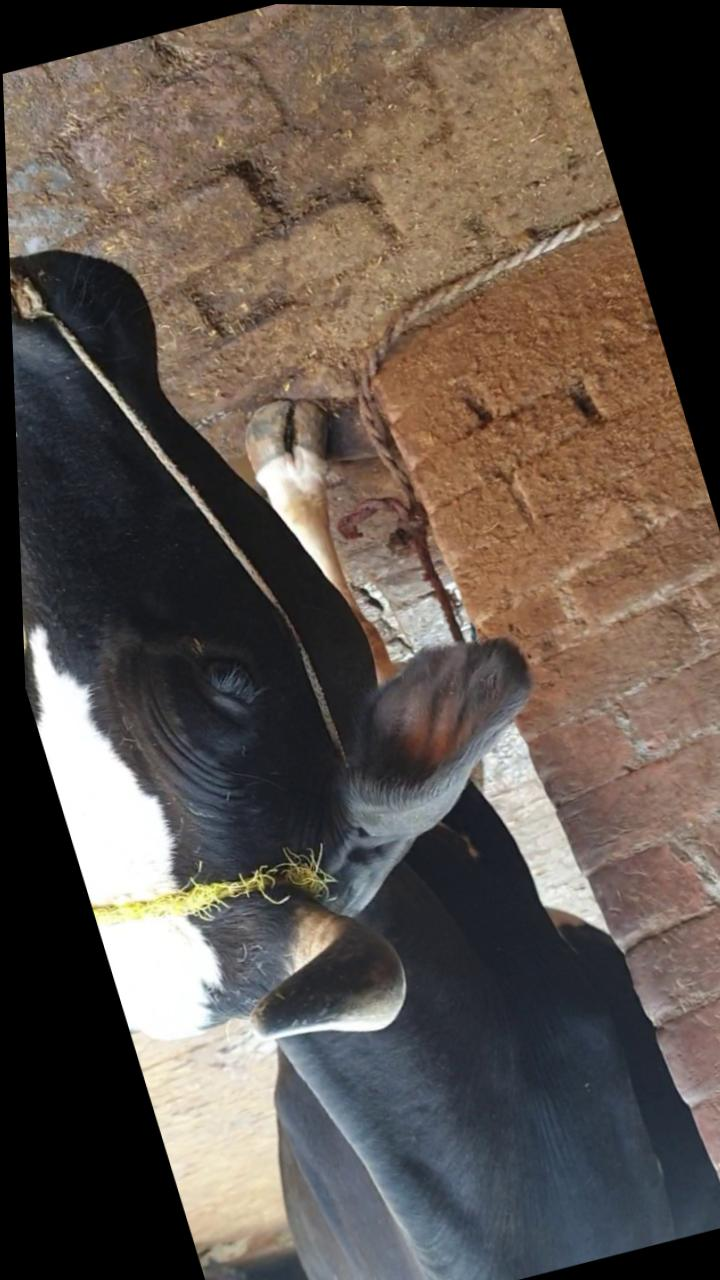cows: (5, 177, 390, 1068)
